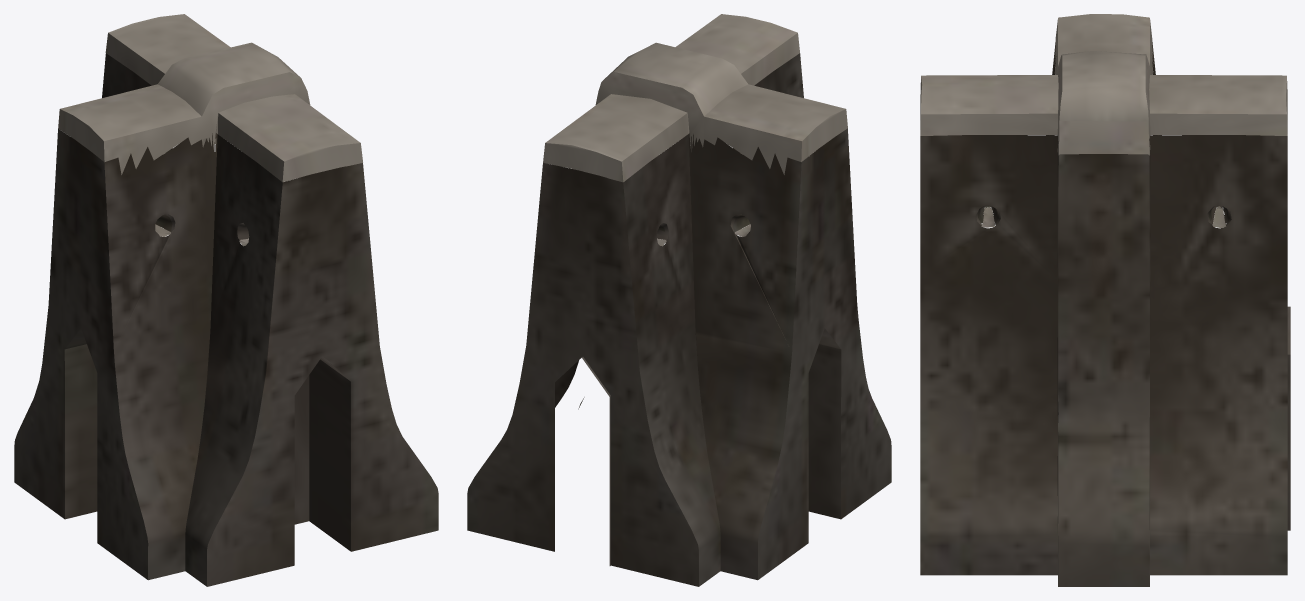
The model's file is stone-wall-nsw.glb.
3 views of the same model, side by side, from view 1: azimuth 30°, elevation 25°; view 2: azimuth 150°, elevation 25°; view 3: azimuth 270°, elevation 25° (orthographic). The views are drawn at different scales.
Parts seen in each view (by area): view 1: body; view 2: body; view 3: body.
Boxes of the visible parts, <box> form: body: <box>14,14,438,586</box>; body: <box>467,14,891,586</box>; body: <box>920,14,1290,586</box>.
Bounding box in the file's own units: 0.9378 × 1.32 × 0.9921.
Materials: 1 (1 with a texture image).
